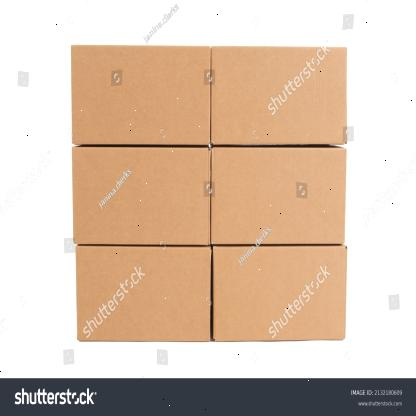box: (70, 44, 210, 146), (209, 146, 348, 246), (72, 145, 210, 245), (211, 47, 347, 144), (75, 245, 211, 342), (213, 245, 347, 342)
